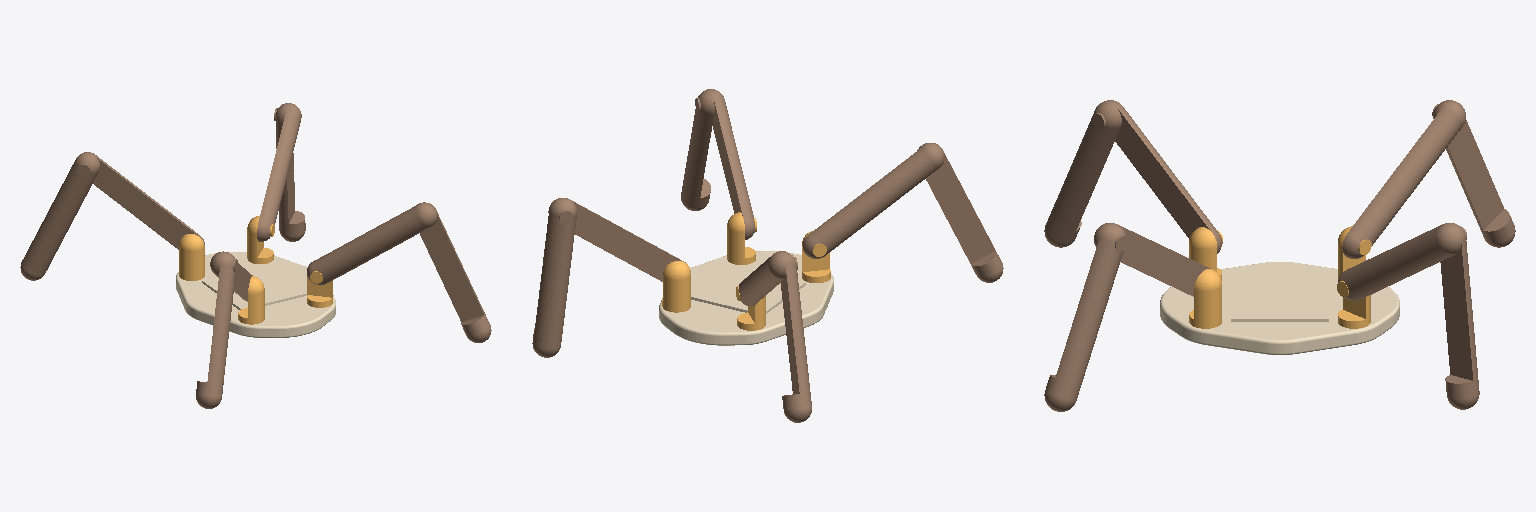
URDF robot description (droid):
<?xml version="1.0" ?>
<!-- Generated using onshape-to-robot -->
<!-- Onshape https://cad.onshape.com/documents/39d48276447cd48c86498015/w/39b3d8215a40ceebd5846695/e/a41b11f439c5da9336695592 -->
<robot name="droid">
  <!-- Link base_link -->
  <link name="base_link">
    <inertial>
      <origin xyz="0 0 0" rpy="0 0 0"/>
      <mass value="1e-09"/>
      <inertia ixx="1e-09" ixy="0" ixz="0" iyy="1e-09" iyz="0" izz="1e-09"/>
    </inertial>
  </link>
  <!-- Link body -->
  <link name="body">
    <inertial>
      <origin xyz="0.0149804 0.0284279 0.0351895" rpy="0 0 0"/>
      <mass value="0.0199018"/>
      <inertia ixx="6.11183e-06" ixy="0" ixz="0" iyy="3.7272e-06" iyz="0" izz="9.7415e-06"/>
    </inertial>
    <!-- Part body -->
    <visual>
      <origin xyz="0.0352719 0.0284279 0.0325815" rpy="0 -0 0"/>
      <geometry>
        <mesh filename="package://speeder_description/assets/body.stl"/>
      </geometry>
      <material name="body_material">
        <color rgba="0.952941 0.894118 0.788235 1"/>
      </material>
    </visual>
    <collision>
      <origin xyz="0.0352719 0.0284279 0.0325815" rpy="0 -0 0"/>
      <geometry>
        <mesh filename="package://speeder_description/assets/body.stl"/>
      </geometry>
    </collision>
  </link>
  <!-- Link base_arm -->
  <link name="base_arm">
    <inertial>
      <origin xyz="0 -0.000821445 -0.00846774" rpy="0 0 0"/>
      <mass value="0.00126809"/>
      <inertia ixx="4.8105e-08" ixy="0" ixz="-0" iyy="4.813e-08" iyz="-2.117e-09" izz="1.4267e-08"/>
    </inertial>
    <!-- Part base_arm -->
    <visual>
      <origin xyz="0.0411943 -0.00227465 0" rpy="3.14159 -0 0"/>
      <geometry>
        <mesh filename="package://speeder_description/assets/base_arm.stl"/>
      </geometry>
      <material name="base_arm_material">
        <color rgba="1 0.772549 0.439216 1"/>
      </material>
    </visual>
    <collision>
      <origin xyz="0.0411943 -0.00227465 0" rpy="3.14159 -0 0"/>
      <geometry>
        <mesh filename="package://speeder_description/assets/base_arm.stl"/>
      </geometry>
    </collision>
  </link>
  <!-- Link first_leg_1 -->
  <link name="first_leg_1">
    <inertial>
      <origin xyz="1.1904e-08 -0.0271462 0.00315744" rpy="0 0 0"/>
      <mass value="0.00278753"/>
      <inertia ixx="7.46524e-07" ixy="0" ixz="0" iyy="2.4267e-08" iyz="1.1974e-08" izz="7.56242e-07"/>
    </inertial>
    <!-- Part arm1 -->
    <visual>
      <origin xyz="0.0211943 0.015 -0.00518933" rpy="1.5708 -0 -0"/>
      <geometry>
        <mesh filename="package://speeder_description/assets/arm1.stl"/>
      </geometry>
      <material name="arm1_material">
        <color rgba="0.662745 0.545098 0.462745 1"/>
      </material>
    </visual>
    <collision>
      <origin xyz="0.0211943 0.015 -0.00518933" rpy="1.5708 -0 -0"/>
      <geometry>
        <mesh filename="package://speeder_description/assets/arm1.stl"/>
      </geometry>
    </collision>
  </link>
  <!-- Link second_leg_1 -->
  <link name="second_leg_1">
    <inertial>
      <origin xyz="-1.008e-09 -0.0291753 0.00350177" rpy="0 0 0"/>
      <mass value="0.00307395"/>
      <inertia ixx="8.76015e-07" ixy="0" ixz="-0" iyy="3.0359e-08" iyz="3.2666e-08" izz="8.83959e-07"/>
    </inertial>
    <!-- Part arm2 -->
    <visual>
      <origin xyz="0.0411943 -0.065 0.00276138" rpy="-1.5708 0 -0"/>
      <geometry>
        <mesh filename="package://speeder_description/assets/arm2.stl"/>
      </geometry>
      <material name="arm2_material">
        <color rgba="0.662745 0.545098 0.462745 1"/>
      </material>
    </visual>
    <collision>
      <origin xyz="0.0411943 -0.065 0.00276138" rpy="-1.5708 0 -0"/>
      <geometry>
        <mesh filename="package://speeder_description/assets/arm2.stl"/>
      </geometry>
    </collision>
  </link>
  <!-- Joint from first_leg_1 to second_leg_1 -->
  <joint name="second_leg_1" type="revolute">
    <origin xyz="-0 -0.05 0.010036" rpy="3.14159 -0 -1.39626"/>
    <parent link="first_leg_1"/>
    <child link="second_leg_1"/>
    <axis xyz="0 0 1"/>
    <limit effort="10" velocity="10" lower="-1.13446" upper="1.5708"/>
  </joint>
  <!-- Joint from base_arm to first_leg_1 -->
  <joint name="first_leg_1" type="revolute">
    <origin xyz="0 0.005 -0.015" rpy="1.5708 -0.959931 -0"/>
    <parent link="base_arm"/>
    <child link="first_leg_1"/>
    <axis xyz="0 0 1"/>
    <limit effort="10" velocity="10" lower="-0.785398" upper="1.22173"/>
  </joint>
  <!-- Joint from body to base_arm -->
  <joint name="base_leg_1" type="revolute">
    <origin xyz="-1.96131e-05 0.00592791 0.0350815" rpy="-3.14159 0 -2.35619"/>
    <parent link="body"/>
    <child link="base_arm"/>
    <axis xyz="0 0 1"/>
    <limit effort="10" velocity="10" lower="-1.39626" upper="1.39626"/>
  </joint>
  <!-- Link base_arm_2 -->
  <link name="base_arm_2">
    <inertial>
      <origin xyz="-0 -0.000821445 -0.00846774" rpy="0 0 0"/>
      <mass value="0.00126809"/>
      <inertia ixx="4.8105e-08" ixy="-0" ixz="0" iyy="4.813e-08" iyz="-2.117e-09" izz="1.4267e-08"/>
    </inertial>
    <!-- Part base_arm_2 -->
    <visual>
      <origin xyz="0.0411943 -0.00227465 0" rpy="-3.14159 0 -0"/>
      <geometry>
        <mesh filename="package://speeder_description/assets/base_arm.stl"/>
      </geometry>
      <material name="base_arm_2_material">
        <color rgba="1 0.772549 0.439216 1"/>
      </material>
    </visual>
    <collision>
      <origin xyz="0.0411943 -0.00227465 0" rpy="-3.14159 0 -0"/>
      <geometry>
        <mesh filename="package://speeder_description/assets/base_arm.stl"/>
      </geometry>
    </collision>
  </link>
  <!-- Link first_leg_2 -->
  <link name="first_leg_2">
    <inertial>
      <origin xyz="1.1904e-08 -0.0271462 0.00315744" rpy="0 0 0"/>
      <mass value="0.00278753"/>
      <inertia ixx="7.46524e-07" ixy="0" ixz="0" iyy="2.4267e-08" iyz="1.1974e-08" izz="7.56242e-07"/>
    </inertial>
    <!-- Part arm1_2 -->
    <visual>
      <origin xyz="0.0211943 0.015 -0.00518933" rpy="1.5708 -0 0"/>
      <geometry>
        <mesh filename="package://speeder_description/assets/arm1.stl"/>
      </geometry>
      <material name="arm1_2_material">
        <color rgba="0.662745 0.545098 0.462745 1"/>
      </material>
    </visual>
    <collision>
      <origin xyz="0.0211943 0.015 -0.00518933" rpy="1.5708 -0 0"/>
      <geometry>
        <mesh filename="package://speeder_description/assets/arm1.stl"/>
      </geometry>
    </collision>
  </link>
  <!-- Link second_leg_2 -->
  <link name="second_leg_2">
    <inertial>
      <origin xyz="-1.008e-09 -0.0291753 0.00350177" rpy="0 0 0"/>
      <mass value="0.00307395"/>
      <inertia ixx="8.76015e-07" ixy="0" ixz="-0" iyy="3.0359e-08" iyz="3.2666e-08" izz="8.83959e-07"/>
    </inertial>
    <!-- Part arm2_2 -->
    <visual>
      <origin xyz="0.0411943 -0.065 0.00276138" rpy="-1.5708 0 -0"/>
      <geometry>
        <mesh filename="package://speeder_description/assets/arm2.stl"/>
      </geometry>
      <material name="arm2_2_material">
        <color rgba="0.662745 0.545098 0.462745 1"/>
      </material>
    </visual>
    <collision>
      <origin xyz="0.0411943 -0.065 0.00276138" rpy="-1.5708 0 -0"/>
      <geometry>
        <mesh filename="package://speeder_description/assets/arm2.stl"/>
      </geometry>
    </collision>
  </link>
  <!-- Joint from first_leg_2 to second_leg_2 -->
  <joint name="second_leg_2" type="revolute">
    <origin xyz="0 -0.05 0.010036" rpy="-3.14159 0 -1.39626"/>
    <parent link="first_leg_2"/>
    <child link="second_leg_2"/>
    <axis xyz="0 0 1"/>
    <limit effort="10" velocity="10" lower="-1.13446" upper="1.5708"/>
  </joint>
  <!-- Joint from base_arm_2 to first_leg_2 -->
  <joint name="first_leg_2" type="revolute">
    <origin xyz="-0 0.005 -0.015" rpy="1.5708 -0.959931 -0"/>
    <parent link="base_arm_2"/>
    <child link="first_leg_2"/>
    <axis xyz="0 0 1"/>
    <limit effort="10" velocity="10" lower="-0.785398" upper="1.22173"/>
  </joint>
  <!-- Joint from body to base_arm_2 -->
  <joint name="base_leg_2" type="revolute">
    <origin xyz="-1.96131e-05 0.0509279 0.0350815" rpy="-3.14159 -0 2.35619"/>
    <parent link="body"/>
    <child link="base_arm_2"/>
    <axis xyz="0 0 1"/>
    <limit effort="10" velocity="10" lower="-1.5708" upper="1.5708"/>
  </joint>
  <!-- Link base_arm_3 -->
  <link name="base_arm_3">
    <inertial>
      <origin xyz="-0 -0.000821445 -0.00846774" rpy="0 0 0"/>
      <mass value="0.00126809"/>
      <inertia ixx="4.8105e-08" ixy="0" ixz="-0" iyy="4.813e-08" iyz="-2.117e-09" izz="1.4267e-08"/>
    </inertial>
    <!-- Part base_arm_3 -->
    <visual>
      <origin xyz="0.0411943 -0.00227465 0" rpy="3.14159 0 0"/>
      <geometry>
        <mesh filename="package://speeder_description/assets/base_arm.stl"/>
      </geometry>
      <material name="base_arm_3_material">
        <color rgba="1 0.772549 0.439216 1"/>
      </material>
    </visual>
    <collision>
      <origin xyz="0.0411943 -0.00227465 0" rpy="3.14159 0 0"/>
      <geometry>
        <mesh filename="package://speeder_description/assets/base_arm.stl"/>
      </geometry>
    </collision>
  </link>
  <!-- Link first_leg_3 -->
  <link name="first_leg_3">
    <inertial>
      <origin xyz="1.1904e-08 -0.0271462 0.00315744" rpy="0 0 0"/>
      <mass value="0.00278753"/>
      <inertia ixx="7.46524e-07" ixy="0" ixz="0" iyy="2.4267e-08" iyz="1.1974e-08" izz="7.56242e-07"/>
    </inertial>
    <!-- Part arm1_3 -->
    <visual>
      <origin xyz="0.0211943 0.015 -0.00518933" rpy="1.5708 -0 0"/>
      <geometry>
        <mesh filename="package://speeder_description/assets/arm1.stl"/>
      </geometry>
      <material name="arm1_3_material">
        <color rgba="0.662745 0.545098 0.462745 1"/>
      </material>
    </visual>
    <collision>
      <origin xyz="0.0211943 0.015 -0.00518933" rpy="1.5708 -0 0"/>
      <geometry>
        <mesh filename="package://speeder_description/assets/arm1.stl"/>
      </geometry>
    </collision>
  </link>
  <!-- Link second_leg_3 -->
  <link name="second_leg_3">
    <inertial>
      <origin xyz="-1.008e-09 -0.0291753 0.00350177" rpy="0 0 0"/>
      <mass value="0.00307395"/>
      <inertia ixx="8.76015e-07" ixy="0" ixz="-0" iyy="3.0359e-08" iyz="3.2666e-08" izz="8.83959e-07"/>
    </inertial>
    <!-- Part arm2_3 -->
    <visual>
      <origin xyz="0.0411943 -0.065 0.00276138" rpy="-1.5708 0 0"/>
      <geometry>
        <mesh filename="package://speeder_description/assets/arm2.stl"/>
      </geometry>
      <material name="arm2_3_material">
        <color rgba="0.662745 0.545098 0.462745 1"/>
      </material>
    </visual>
    <collision>
      <origin xyz="0.0411943 -0.065 0.00276138" rpy="-1.5708 0 0"/>
      <geometry>
        <mesh filename="package://speeder_description/assets/arm2.stl"/>
      </geometry>
    </collision>
  </link>
  <!-- Joint from first_leg_3 to second_leg_3 -->
  <joint name="second_leg_3" type="revolute">
    <origin xyz="0 -0.05 0.010036" rpy="3.14159 -0 -1.07492"/>
    <parent link="first_leg_3"/>
    <child link="second_leg_3"/>
    <axis xyz="0 0 1"/>
    <limit effort="10" velocity="10" lower="-0.813125" upper="1.89214"/>
  </joint>
  <!-- Joint from base_arm_3 to first_leg_3 -->
  <joint name="first_leg_3" type="revolute">
    <origin xyz="0 0.005 -0.015" rpy="1.5708 -0.959931 -0"/>
    <parent link="base_arm_3"/>
    <child link="first_leg_3"/>
    <axis xyz="0 0 1"/>
    <limit effort="10" velocity="10" lower="-0.785398" upper="1.22173"/>
  </joint>
  <!-- Joint from body to base_arm_3 -->
  <joint name="base_leg_3" type="revolute">
    <origin xyz="0.0299804 0.0509279 0.0350815" rpy="-3.14159 -0 0.785398"/>
    <parent link="body"/>
    <child link="base_arm_3"/>
    <axis xyz="0 0 1"/>
    <limit effort="10" velocity="10" lower="-1.5708" upper="1.5708"/>
  </joint>
  <!-- Link base_arm_4 -->
  <link name="base_arm_4">
    <inertial>
      <origin xyz="0 -0.000821445 -0.00846774" rpy="0 0 0"/>
      <mass value="0.00126809"/>
      <inertia ixx="4.8105e-08" ixy="-0" ixz="0" iyy="4.813e-08" iyz="-2.117e-09" izz="1.4267e-08"/>
    </inertial>
    <!-- Part base_arm_4 -->
    <visual>
      <origin xyz="0.0411943 -0.00227465 0" rpy="3.14159 0 -0"/>
      <geometry>
        <mesh filename="package://speeder_description/assets/base_arm.stl"/>
      </geometry>
      <material name="base_arm_4_material">
        <color rgba="1 0.772549 0.439216 1"/>
      </material>
    </visual>
    <collision>
      <origin xyz="0.0411943 -0.00227465 0" rpy="3.14159 0 -0"/>
      <geometry>
        <mesh filename="package://speeder_description/assets/base_arm.stl"/>
      </geometry>
    </collision>
  </link>
  <!-- Link first_leg_4 -->
  <link name="first_leg_4">
    <inertial>
      <origin xyz="1.1904e-08 -0.0271462 0.00315744" rpy="0 0 0"/>
      <mass value="0.00278753"/>
      <inertia ixx="7.46524e-07" ixy="0" ixz="0" iyy="2.4267e-08" iyz="1.1974e-08" izz="7.56242e-07"/>
    </inertial>
    <!-- Part arm1_4 -->
    <visual>
      <origin xyz="0.0211943 0.015 -0.00518933" rpy="1.5708 -0 0"/>
      <geometry>
        <mesh filename="package://speeder_description/assets/arm1.stl"/>
      </geometry>
      <material name="arm1_4_material">
        <color rgba="0.662745 0.545098 0.462745 1"/>
      </material>
    </visual>
    <collision>
      <origin xyz="0.0211943 0.015 -0.00518933" rpy="1.5708 -0 0"/>
      <geometry>
        <mesh filename="package://speeder_description/assets/arm1.stl"/>
      </geometry>
    </collision>
  </link>
  <!-- Link second_leg_4 -->
  <link name="second_leg_4">
    <inertial>
      <origin xyz="-1.008e-09 -0.0291753 0.00350177" rpy="0 0 0"/>
      <mass value="0.00307395"/>
      <inertia ixx="8.76015e-07" ixy="0" ixz="-0" iyy="3.0359e-08" iyz="3.2666e-08" izz="8.83959e-07"/>
    </inertial>
    <!-- Part arm2_4 -->
    <visual>
      <origin xyz="0.0411943 -0.065 0.00276138" rpy="-1.5708 0 0"/>
      <geometry>
        <mesh filename="package://speeder_description/assets/arm2.stl"/>
      </geometry>
      <material name="arm2_4_material">
        <color rgba="0.662745 0.545098 0.462745 1"/>
      </material>
    </visual>
    <collision>
      <origin xyz="0.0411943 -0.065 0.00276138" rpy="-1.5708 0 0"/>
      <geometry>
        <mesh filename="package://speeder_description/assets/arm2.stl"/>
      </geometry>
    </collision>
  </link>
  <!-- Joint from first_leg_4 to second_leg_4 -->
  <joint name="second_leg_4" type="revolute">
    <origin xyz="-0 -0.05 0.010036" rpy="-3.14159 0 -1.39636"/>
    <parent link="first_leg_4"/>
    <child link="second_leg_4"/>
    <axis xyz="0 0 1"/>
    <limit effort="10" velocity="10" lower="-1.13456" upper="1.5707"/>
  </joint>
  <!-- Joint from base_arm_4 to first_leg_4 -->
  <joint name="first_leg_4" type="revolute">
    <origin xyz="0 0.005 -0.015" rpy="1.5708 -0.959983 -0"/>
    <parent link="base_arm_4"/>
    <child link="first_leg_4"/>
    <axis xyz="0 0 1"/>
    <limit effort="10" velocity="10" lower="-0.78545" upper="1.22168"/>
  </joint>
  <!-- Joint from body to base_arm_4 -->
  <joint name="base_leg_4" type="revolute">
    <origin xyz="0.0299804 0.00592791 0.0350815" rpy="-3.14159 -0 -0.785398"/>
    <parent link="body"/>
    <child link="base_arm_4"/>
    <axis xyz="0 0 1"/>
    <limit effort="10" velocity="10" lower="-1.5708" upper="1.5708"/>
  </joint>
  <!-- Joint from base_link to body -->
  <joint name="base_link_to_body" type="fixed">
    <origin xyz="0 0 0" rpy="0 -0 0"/>
    <parent link="base_link"/>
    <child link="body"/>
    <axis xyz="0 0 1"/>
    <limit effort="10" velocity="10"/>
  </joint>
</robot>

--- Render facts (derived) ---
3 views of the same robot in one strip: view 1: azimuth 30°, elevation 25°; view 2: azimuth 150°, elevation 25°; view 3: azimuth 270°, elevation 25° (orthographic).
Robot: droid — 14 links, 13 joints (12 revolute, 1 fixed); root link base_link; default pose: every joint at zero.
Visible links, largest first — view 1: body, first_leg_4, second_leg_2, second_leg_4, first_leg_2, second_leg_1, first_leg_3, second_leg_3, base_arm_2, base_arm, base_arm_3, base_arm_4 (+1 smaller); view 2: body, first_leg_1, second_leg_3, second_leg_1, first_leg_3, second_leg_2, second_leg_4, first_leg_4, first_leg_2, base_arm_3, base_arm_4, base_arm (+1 smaller); view 3: body, second_leg_4, first_leg_2, second_leg_3, second_leg_1, first_leg_3, first_leg_1, second_leg_2, first_leg_4, base_arm_4, base_arm_3, base_arm (+1 smaller).
Boxes of the visible links, x1,y1,x2,y2 form: body: [176, 252, 335, 337]; first_leg_4: [307, 204, 436, 285]; second_leg_2: [20, 153, 99, 280]; second_leg_4: [417, 202, 491, 342]; first_leg_2: [78, 152, 204, 249]; second_leg_1: [196, 252, 235, 408]; first_leg_3: [257, 103, 301, 241]; second_leg_3: [276, 103, 305, 241]; base_arm_2: [179, 234, 204, 280]; base_arm: [238, 276, 264, 324]; base_arm_3: [247, 216, 274, 263]; base_arm_4: [307, 260, 332, 307]; body: [659, 251, 833, 345]; first_leg_1: [802, 144, 944, 258]; second_leg_3: [532, 199, 576, 357]; second_leg_1: [917, 143, 1003, 282]; first_leg_3: [548, 198, 685, 281]; second_leg_2: [781, 251, 811, 422]; second_leg_4: [681, 89, 714, 210]; first_leg_4: [695, 89, 754, 239]; first_leg_2: [739, 251, 797, 306]; base_arm_3: [662, 261, 690, 312]; base_arm_4: [727, 212, 756, 264]; base_arm: [802, 231, 830, 282]; body: [1160, 262, 1399, 354]; second_leg_4: [1044, 223, 1126, 411]; first_leg_2: [1342, 101, 1465, 258]; second_leg_3: [1440, 223, 1479, 409]; second_leg_1: [1044, 101, 1121, 247]; first_leg_3: [1338, 223, 1466, 300]; first_leg_1: [1093, 100, 1221, 253]; second_leg_2: [1433, 100, 1515, 247]; first_leg_4: [1094, 223, 1210, 296]; base_arm_4: [1189, 269, 1221, 328]; base_arm_3: [1337, 281, 1370, 328]; base_arm: [1189, 227, 1222, 279].
Bounding box of the posed robot: 0.1278 × 0.1428 × 0.0597 m (x, y, z).
13 mesh visuals loaded from 4 distinct referenced files (4 binary STL).
